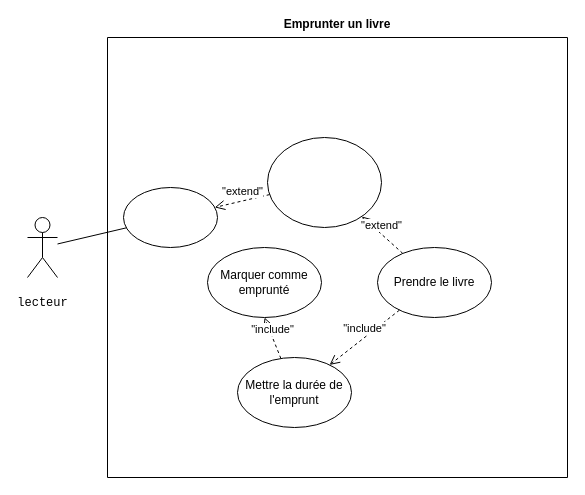
Some shapes in this 585 by 495 pixel diagram are drawn without their labels. The centre of each missing label's shape, as x and y in pixels:
"s'authentifier au système" belongs at point 170,217.
"Vérifier la disponibilité de l' ouvrage" belongs at point 324,182.
